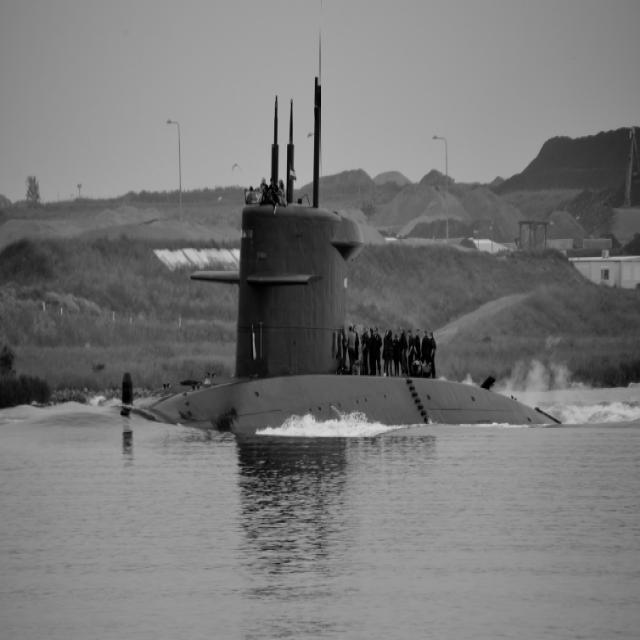submarine: (136, 205, 570, 425)
